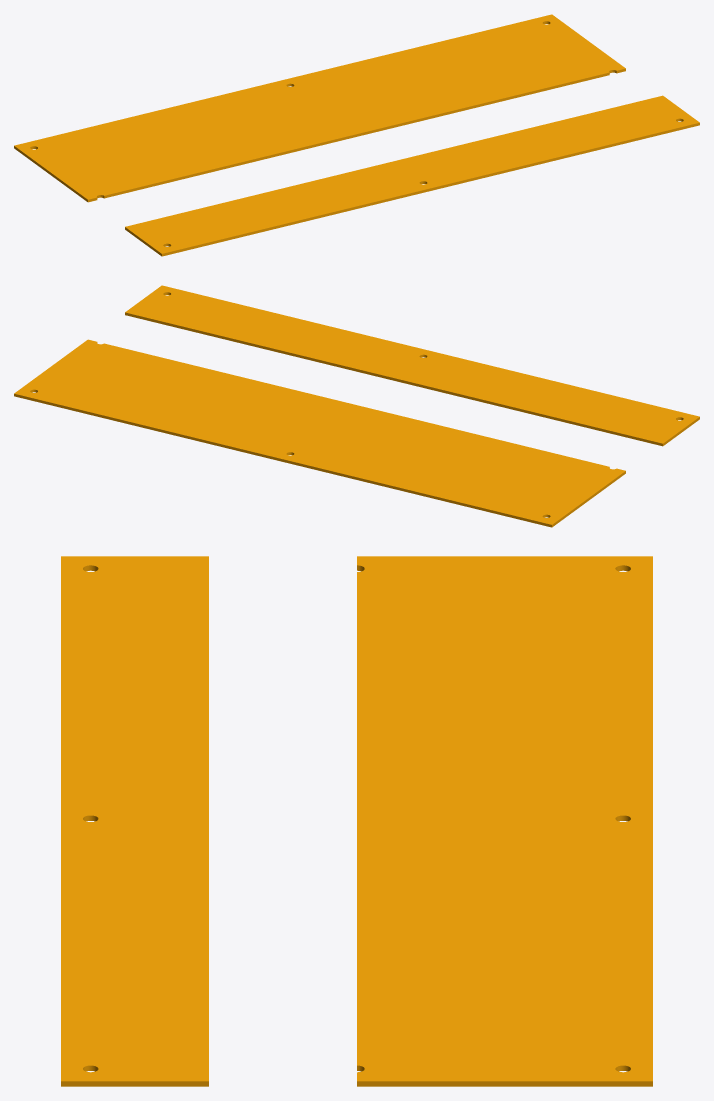
The model's file is shell_front.glb.
3 renders of one model, top to bottom at view 1: azimuth 30°, elevation 25°; view 2: azimuth 150°, elevation 25°; view 3: azimuth 270°, elevation 25°, orthographic. The views are drawn at different scales.
Parts seen in each view (by area): view 1: front_panel-diff-diff; view 2: front_panel-diff-diff; view 3: front_panel-diff-diff.
Part boxes in pixels (x1=…): front_panel-diff-diff: x1=14, y1=14, x2=699, y2=256; front_panel-diff-diff: x1=14, y1=285, x2=699, y2=527; front_panel-diff-diff: x1=61, y1=556, x2=652, y2=1086.
Bounding box in the file's own units: 420 × 2 × 200.
